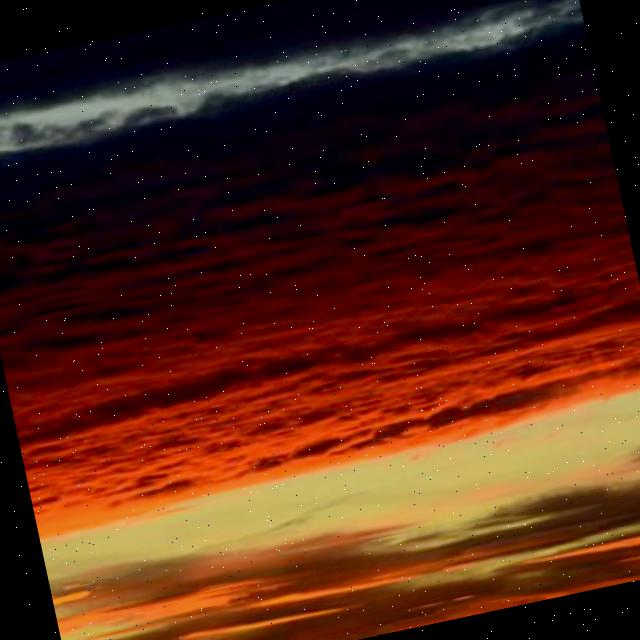Ns: (1, 25, 640, 552)
